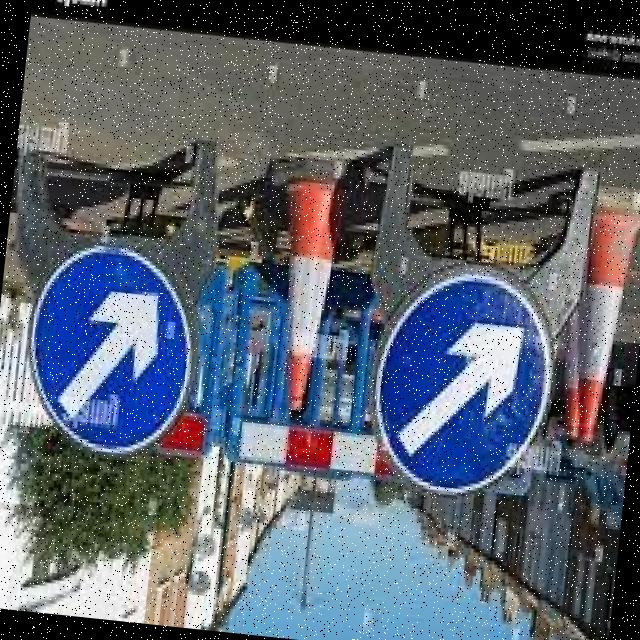compulsory_keep_right: (361, 255, 564, 512), (13, 234, 204, 463)
